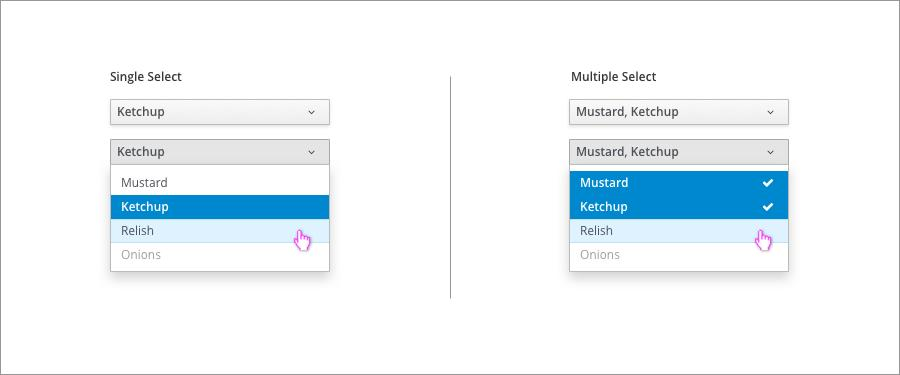dropdown: (568, 140, 791, 273), (566, 97, 794, 126)
